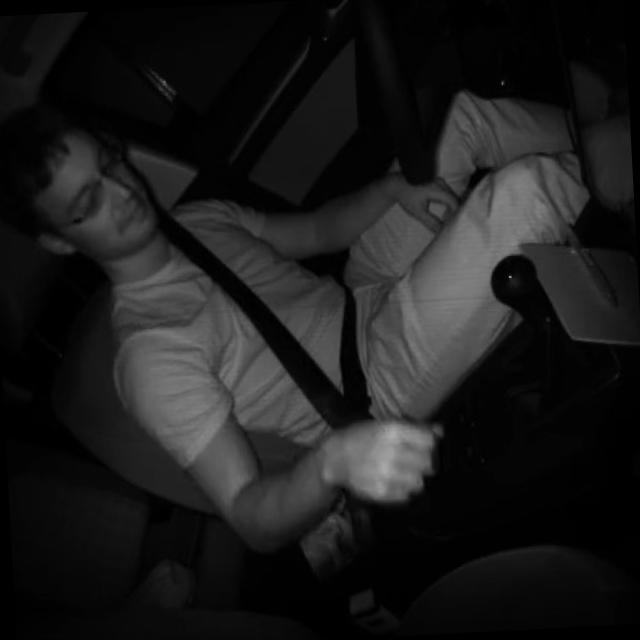pen: (562, 210, 622, 316)
